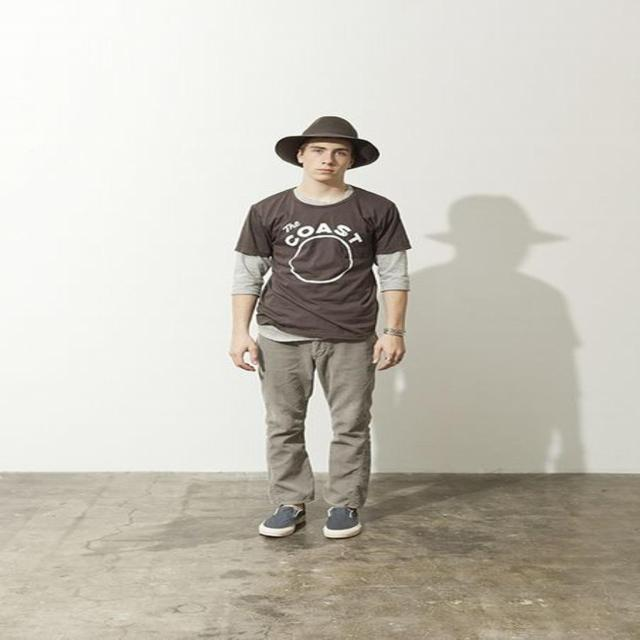nomask: (302, 132, 347, 180)
